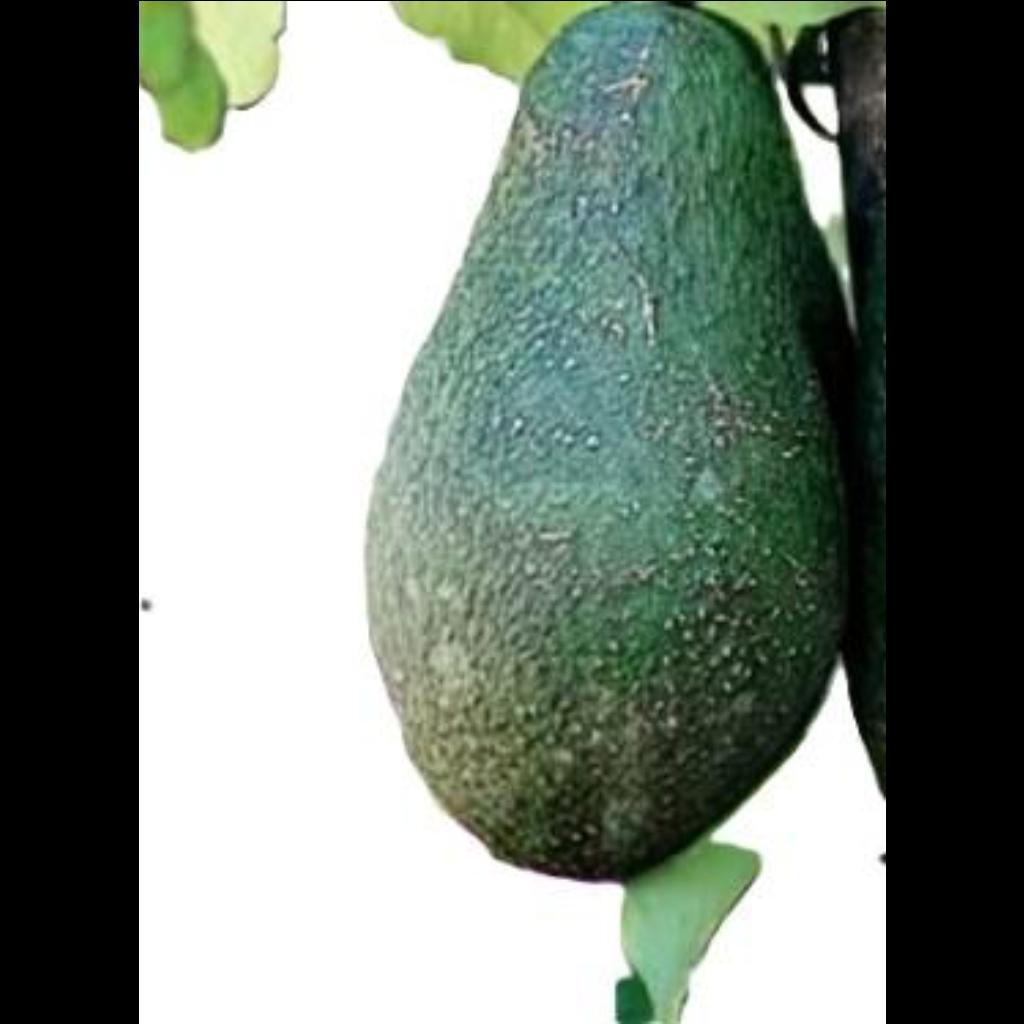Healthy: (349, 0, 877, 876)
